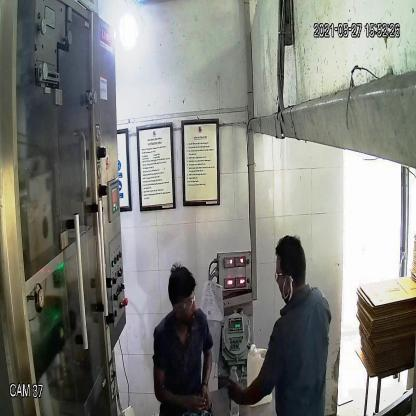goggles: (170, 294, 197, 310)
